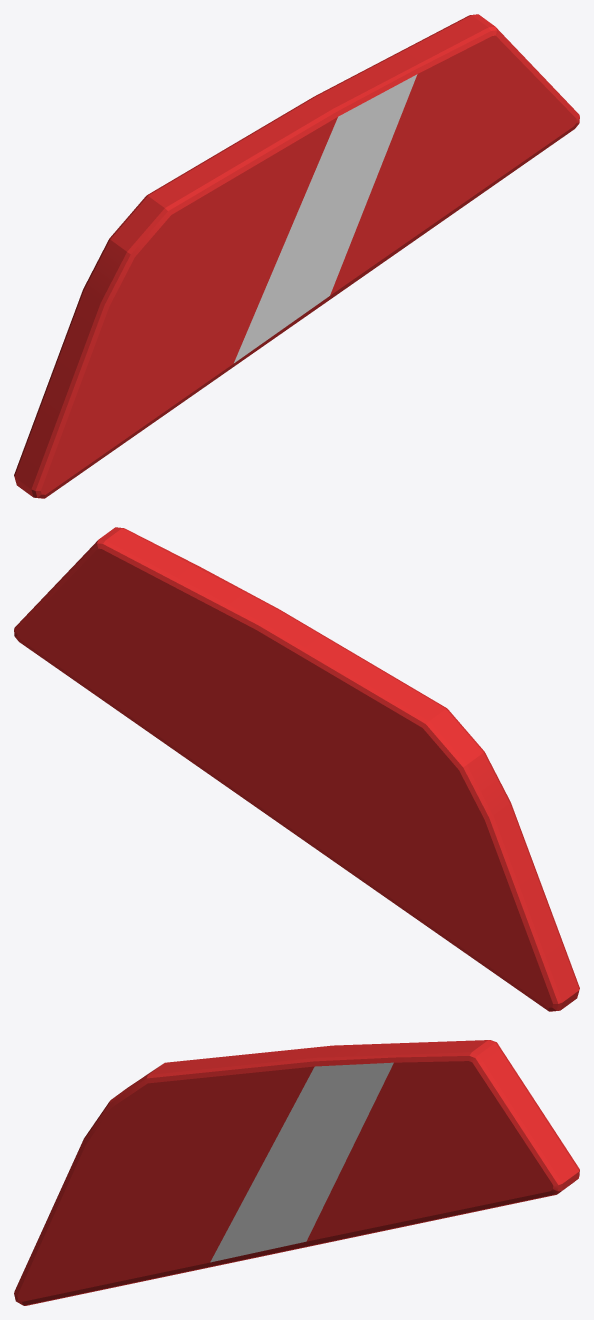
The model's file is wing.fbx.
3 renders of one model, top to bottom at view 1: azimuth 30°, elevation 25°; view 2: azimuth 150°, elevation 25°; view 3: azimuth 330°, elevation 25°, orthographic.
Visible parts, largest first — view 1: polySurface3; view 2: polySurface3; view 3: polySurface3.
Part boxes in pixels (x1=…): polySurface3: x1=14, y1=14, x2=579, y2=498; polySurface3: x1=14, y1=527, x2=579, y2=1011; polySurface3: x1=14, y1=1040, x2=579, y2=1305.
Size of the model in its own units: 3.46 by 2.19 by 0.2575.
